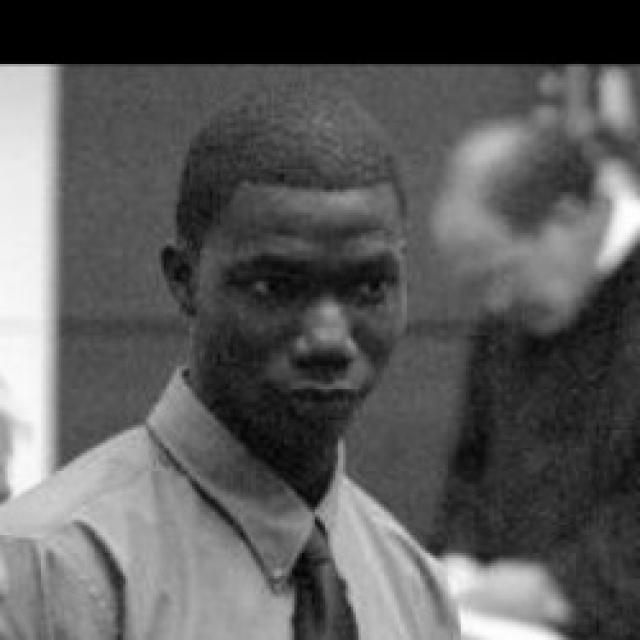real: (190, 102, 415, 461), (225, 254, 405, 308)
